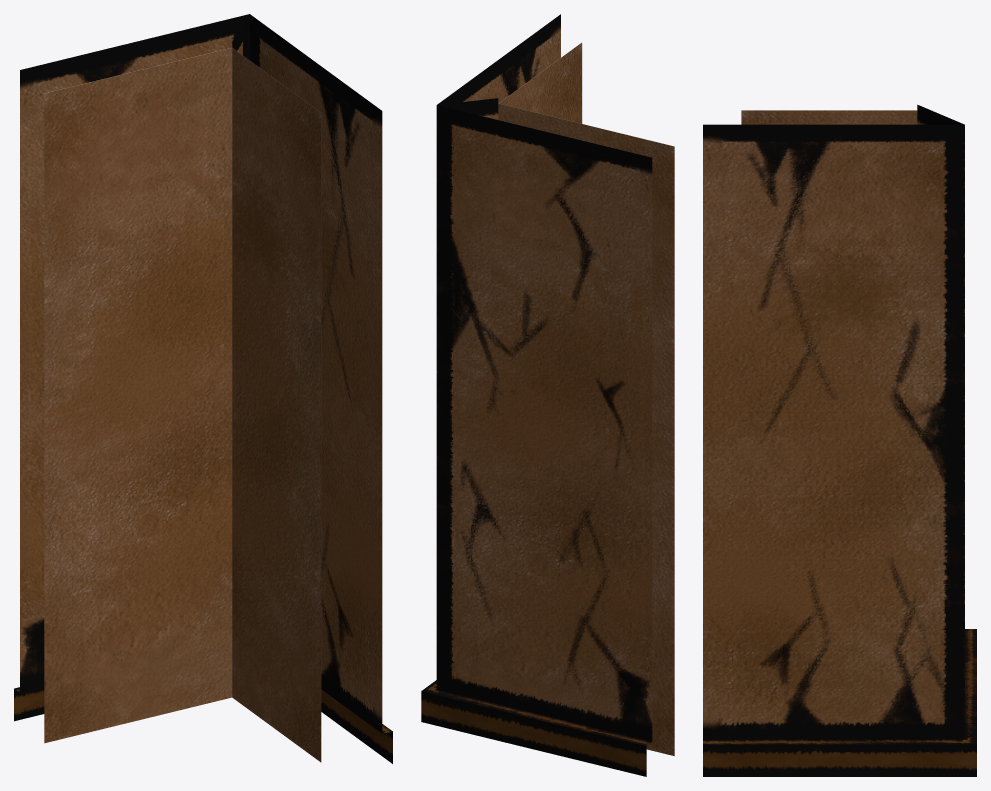
The model's file is OutterWall.fbx.
The picture shows the model from 3 angles, left to right: view 1: azimuth 30°, elevation 25°; view 2: azimuth 150°, elevation 25°; view 3: azimuth 270°, elevation 25°; orthographic projection. The views are drawn at different scales.
Parts seen in each view (by area): view 1: outtercornerWall; view 2: outtercornerWall; view 3: outtercornerWall.
Boxes of the visible parts, x1,y1,x2,y2 form: outtercornerWall: [14, 14, 392, 763]; outtercornerWall: [421, 14, 674, 776]; outtercornerWall: [703, 104, 976, 776].
Size of the model in its own units: 115 by 300 by 115.
Materials: 1 (1 with a texture image).
